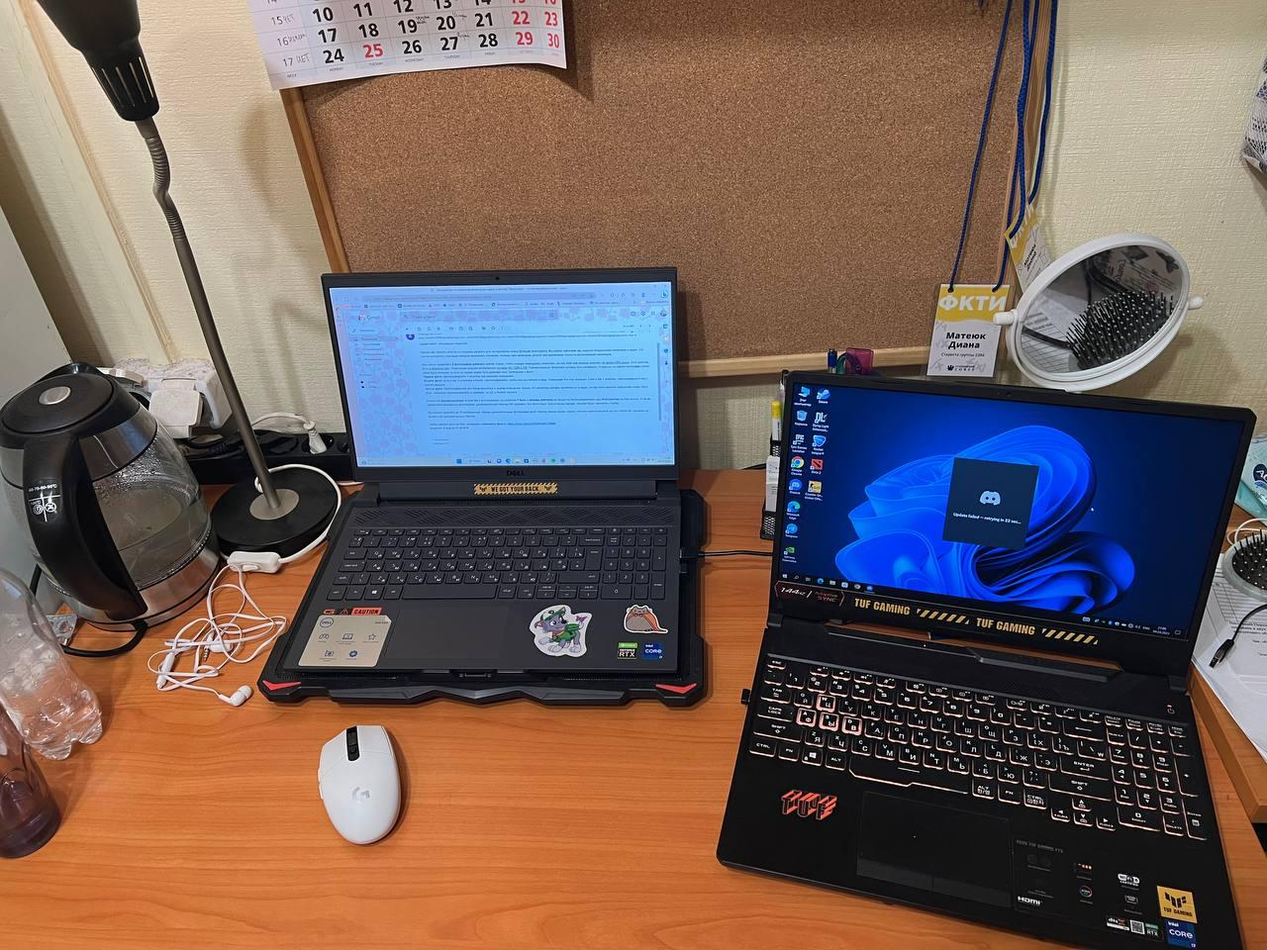monitor: (764, 369, 1257, 691), (315, 262, 699, 500)
